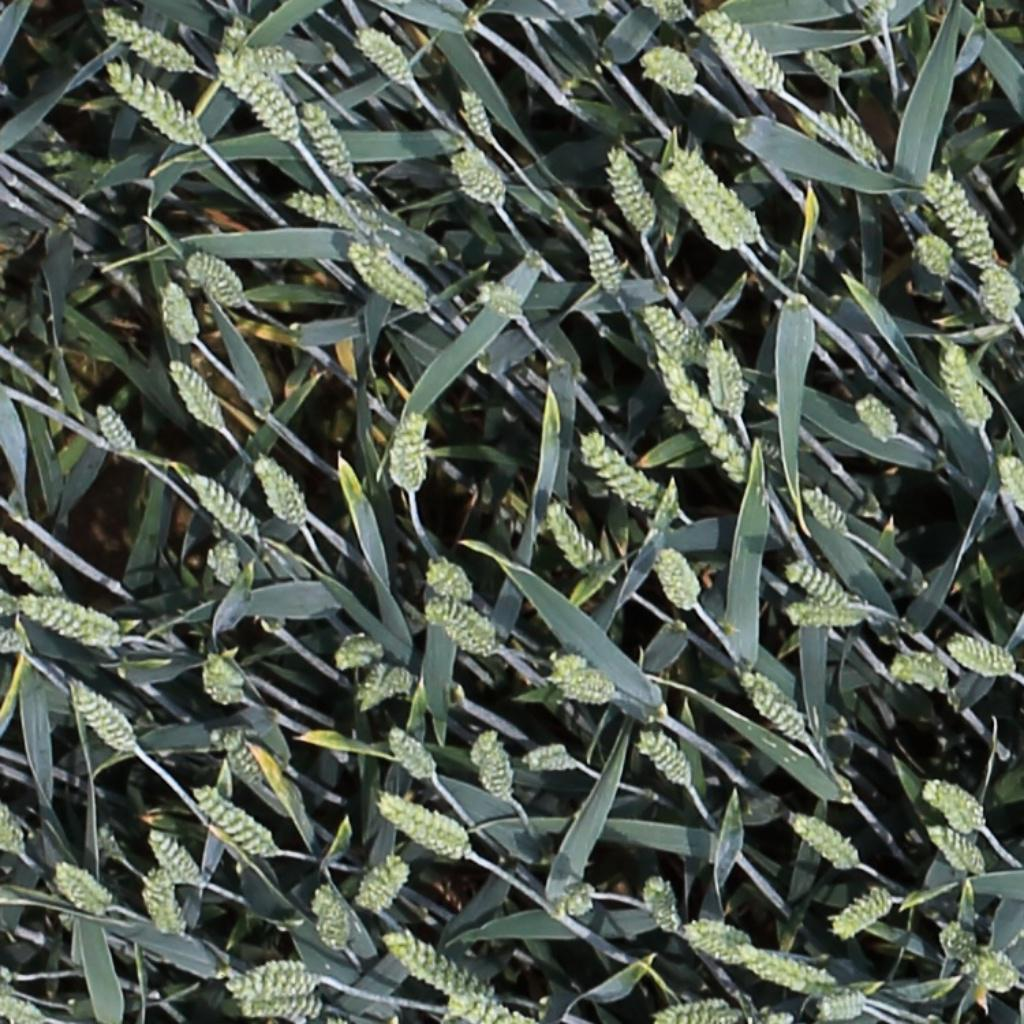0-0: (653, 360, 752, 484), (667, 143, 761, 243), (382, 932, 496, 1007), (102, 62, 202, 146), (214, 59, 301, 154), (920, 169, 998, 266), (697, 8, 785, 91), (576, 432, 662, 513), (662, 165, 742, 251), (734, 663, 809, 745), (330, 645, 426, 708), (96, 5, 189, 70), (62, 675, 135, 757), (189, 787, 273, 858), (342, 241, 425, 312), (222, 949, 334, 998), (293, 95, 356, 182), (374, 798, 465, 856), (540, 498, 603, 580), (184, 471, 258, 540), (163, 354, 225, 435), (602, 139, 655, 233), (939, 338, 993, 430), (247, 450, 307, 532), (16, 596, 117, 644), (737, 946, 836, 992), (0, 529, 64, 600), (383, 408, 437, 489), (140, 827, 203, 892), (787, 815, 858, 871), (812, 106, 883, 162), (350, 24, 413, 87), (640, 303, 705, 364), (684, 912, 758, 963), (652, 543, 703, 615), (632, 729, 692, 790), (925, 824, 987, 882), (286, 189, 375, 229), (212, 726, 264, 794), (918, 783, 985, 835), (380, 724, 436, 786), (350, 857, 406, 917), (447, 144, 503, 204), (582, 219, 622, 300), (449, 990, 543, 1024), (49, 864, 109, 917), (140, 864, 180, 943), (88, 397, 137, 461), (546, 659, 615, 704), (783, 561, 850, 607), (155, 274, 196, 348), (451, 79, 495, 147), (797, 484, 850, 540), (421, 602, 498, 640), (640, 872, 681, 943), (830, 892, 891, 939), (309, 883, 348, 955), (197, 648, 243, 708), (705, 334, 737, 420), (777, 598, 871, 627), (181, 251, 241, 296), (980, 258, 1019, 326), (851, 391, 899, 446), (644, 473, 684, 539), (946, 638, 1015, 675), (637, 49, 696, 92), (479, 735, 512, 811), (653, 993, 736, 1022), (798, 42, 845, 92), (912, 229, 955, 283), (421, 559, 472, 604), (246, 41, 305, 79), (993, 450, 1024, 521), (239, 997, 340, 1018), (550, 879, 601, 920), (855, 1, 903, 43), (435, 621, 492, 656), (937, 917, 976, 966), (816, 985, 870, 1019), (472, 282, 522, 318), (888, 659, 947, 689), (207, 535, 238, 592), (0, 800, 28, 862), (518, 738, 569, 770), (466, 727, 499, 775), (963, 959, 1017, 988), (0, 996, 42, 1024), (649, 0, 688, 24)
